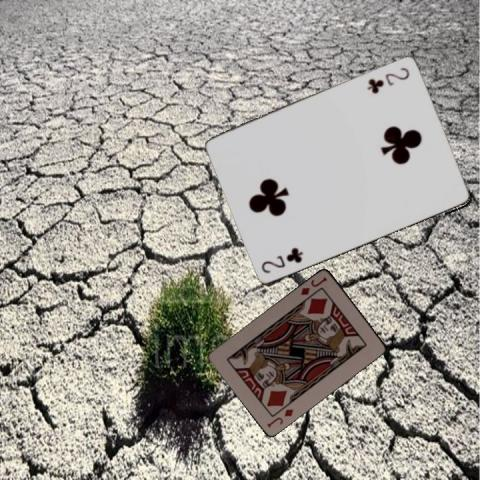2c: (364, 64, 411, 95), (258, 246, 305, 275)
Jd: (264, 405, 295, 429), (298, 273, 329, 296)
